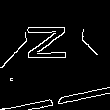N_E: (30, 29, 79, 70)
